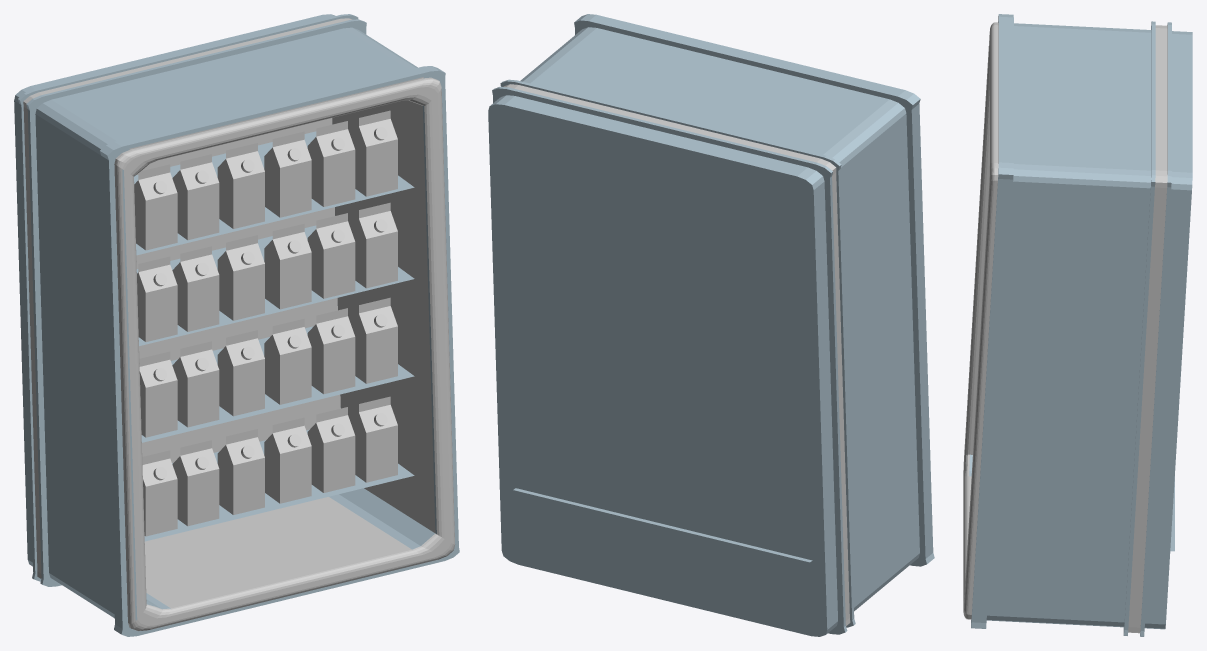
The model's file is StaandeVriesbak.fbx.
3 renders of one model, left to right at view 1: azimuth 30°, elevation 25°; view 2: azimuth 150°, elevation 25°; view 3: azimuth 270°, elevation 25°, orthographic. The views are drawn at different scales.
Parts seen in each view (by area): view 1: Cube, Cube_004, Cube_016, Cube_021, Cube_009, Cube_015, Cube_003, Cube_022, Cube_010, Cube_014, Cube_023, Cube_002 (+13 smaller); view 2: Cube; view 3: Cube.
Part boxes in pixels (box(x1,y1,x2,y2)): Cube: box(14, 14, 459, 636); Cube_004: box(264, 131, 311, 217); Cube_016: box(264, 318, 311, 404); Cube_021: box(264, 417, 311, 503); Cube_009: box(264, 223, 311, 309); Cube_015: box(217, 330, 264, 416); Cube_003: box(217, 143, 264, 228); Cube_022: box(217, 429, 264, 514); Cube_010: box(217, 235, 264, 320); Cube_014: box(307, 308, 355, 394); Cube_023: box(307, 407, 355, 492); Cube_002: box(307, 121, 355, 206); Cube: box(488, 14, 934, 636); Cube: box(963, 14, 1192, 636).
Bounding box in the file's own units: 3.38 × 4.66 × 2.05.
